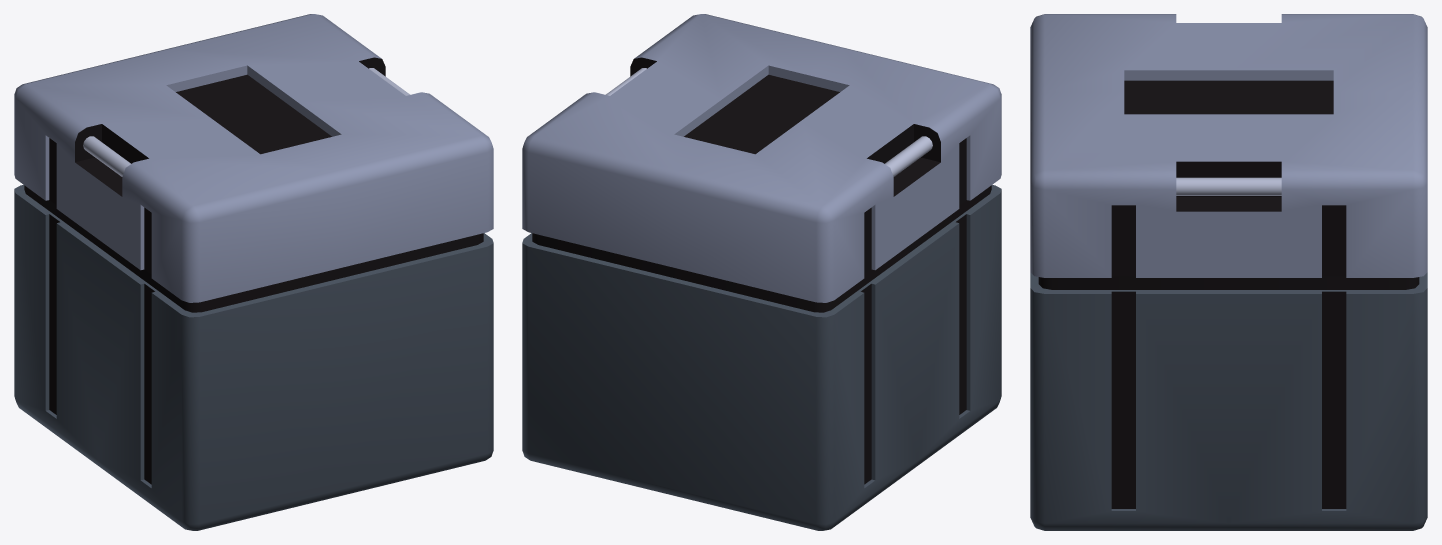
The model's file is MM_Crate_2.fbx.
3 renders of one model, left to right at view 1: azimuth 30°, elevation 25°; view 2: azimuth 150°, elevation 25°; view 3: azimuth 270°, elevation 25°, orthographic. The views are drawn at different scales.
Parts seen in each view (by area): view 1: Cube.032; view 2: Cube.032; view 3: Cube.032.
Boxes of the visible parts, bbox=[...] form: Cube.032: bbox=[14, 14, 493, 530]; Cube.032: bbox=[522, 14, 1001, 530]; Cube.032: bbox=[1030, 14, 1427, 530].
Size of the model in its own units: 72.93 by 72.93 by 72.93.
